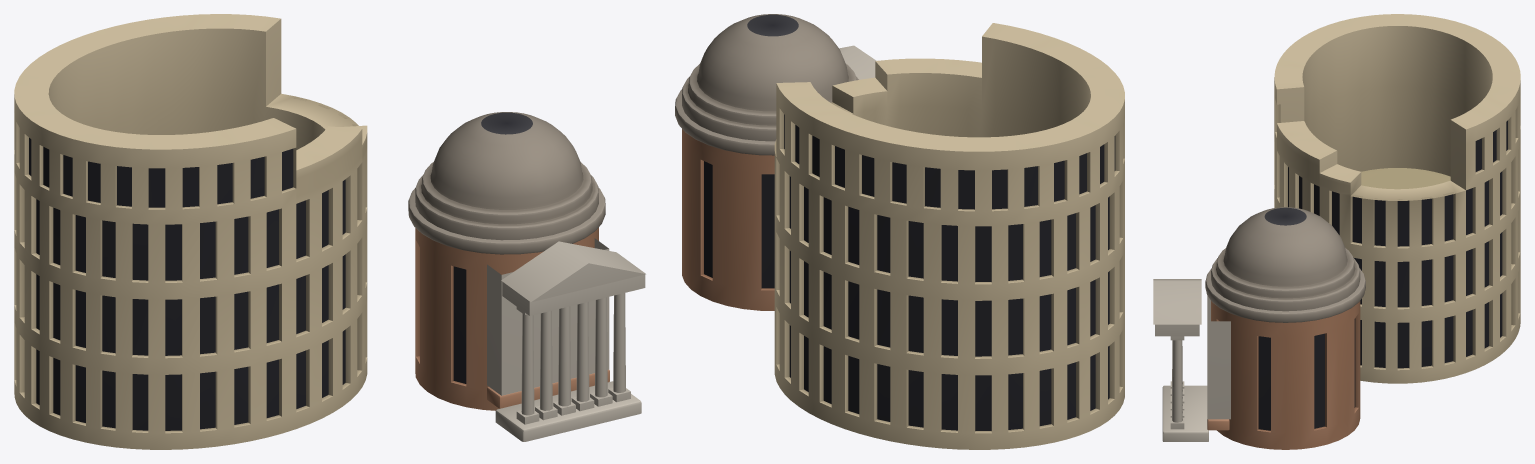
The model's file is landmark_rome_solo.glb.
3 renders of one model, left to right at view 1: azimuth 30°, elevation 25°; view 2: azimuth 150°, elevation 25°; view 3: azimuth 270°, elevation 25°, orthographic. The views are drawn at different scales.
Visible parts, largest first — view 1: Colosseum_Travertine, Pantheon_Stone, Pantheon_Portico; view 2: Colosseum_Travertine, Pantheon_Stone, Pantheon_Portico; view 3: Colosseum_Travertine, Pantheon_Stone, Pantheon_Portico.
Part boxes in pixels (<box>): Colosseum_Travertine: <box>14,14,367,449</box>; Pantheon_Stone: <box>408,112,641,441</box>; Pantheon_Portico: <box>487,238,645,424</box>; Colosseum_Travertine: <box>774,23,1124,449</box>; Pantheon_Stone: <box>675,14,858,310</box>; Pantheon_Portico: <box>839,45,876,79</box>; Colosseum_Travertine: <box>1274,14,1520,383</box>; Pantheon_Stone: <box>1162,207,1365,449</box>; Pantheon_Portico: <box>1153,279,1230,429</box>.
Size of the model in its own units: 1.24 by 0.72 by 0.985.
